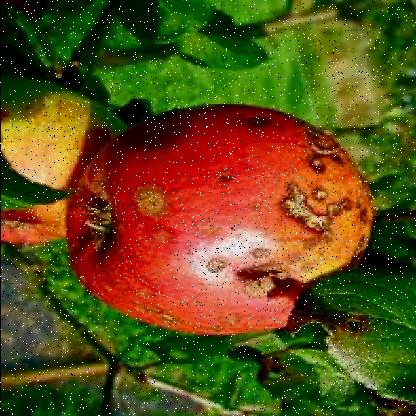damaged_apple: (80, 106, 367, 332)
